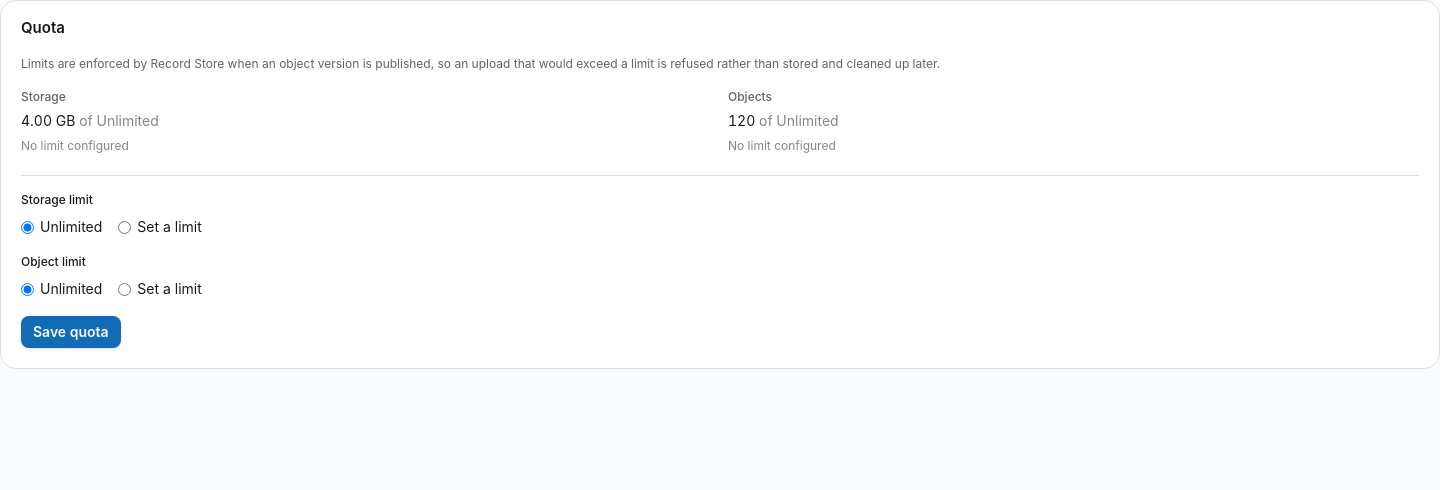
Test: QuotaSection › refuses a fractional amount before contacting the API
Click the radio button labelled "Set a limit" below "Storage limit" at [125, 227], box [118,220,131,234]
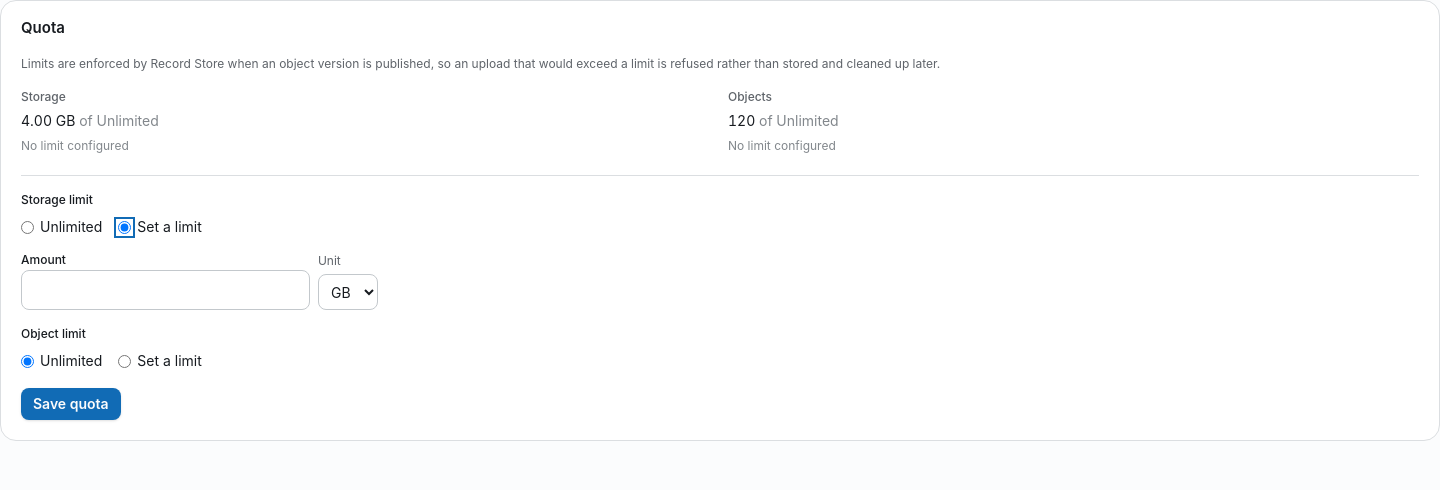
Type "1.5" into the field labelled "Amount" at [165, 290], box [21,270,310,310]
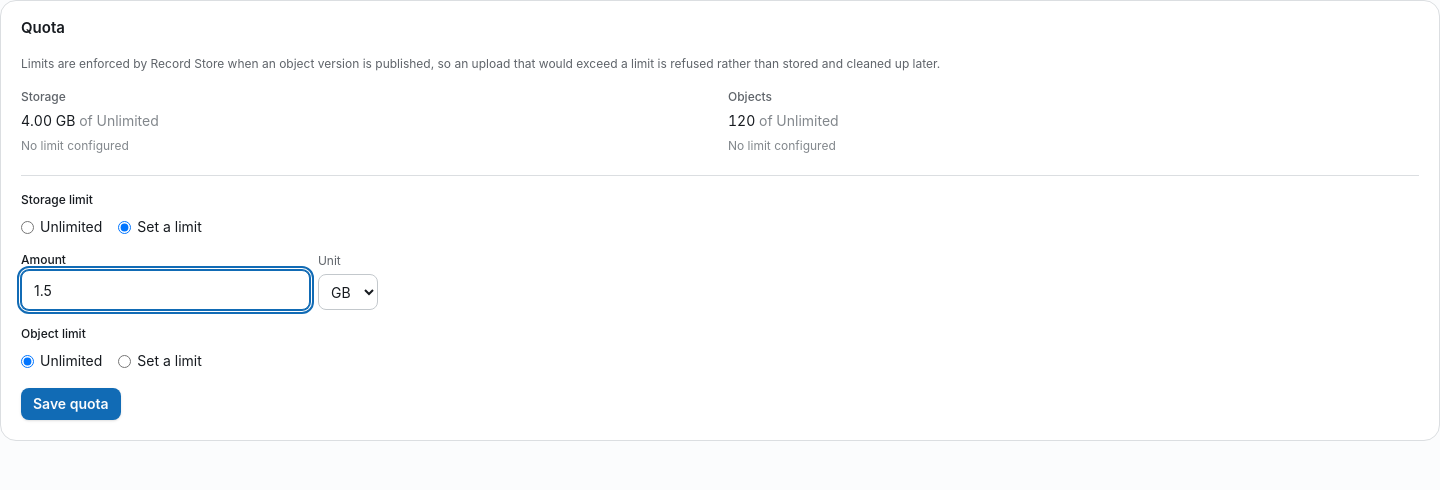
Click the button "Save quota" at [71, 404], box [21,388,121,420]
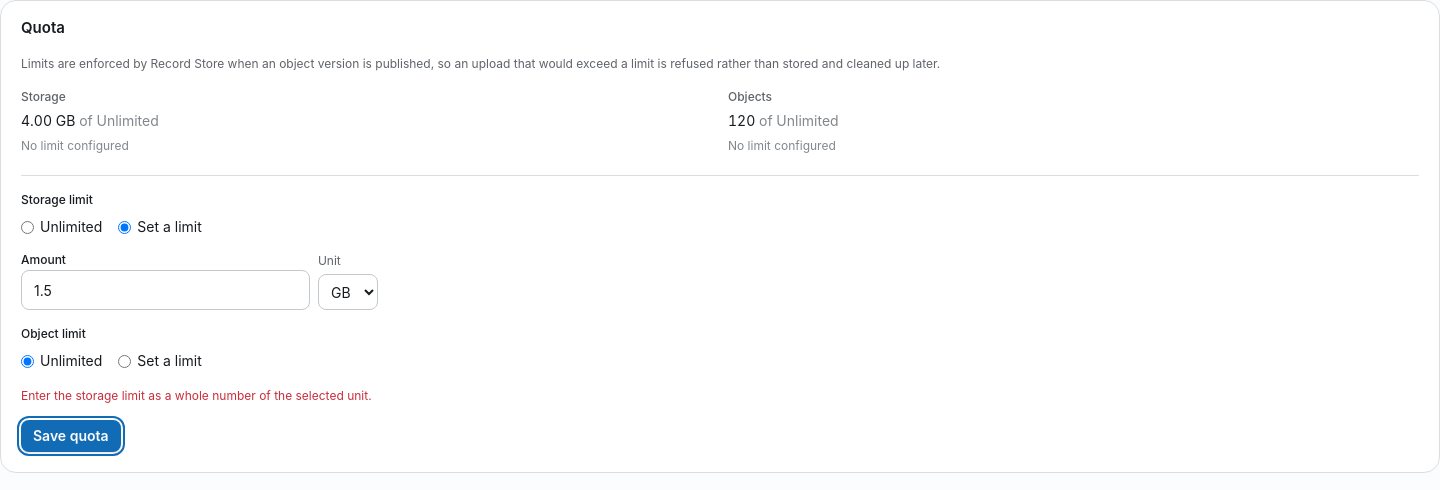
expect the message "Enter the storage limit as a whole number of the selected unit." is shown: met, box [21,388,372,403]
